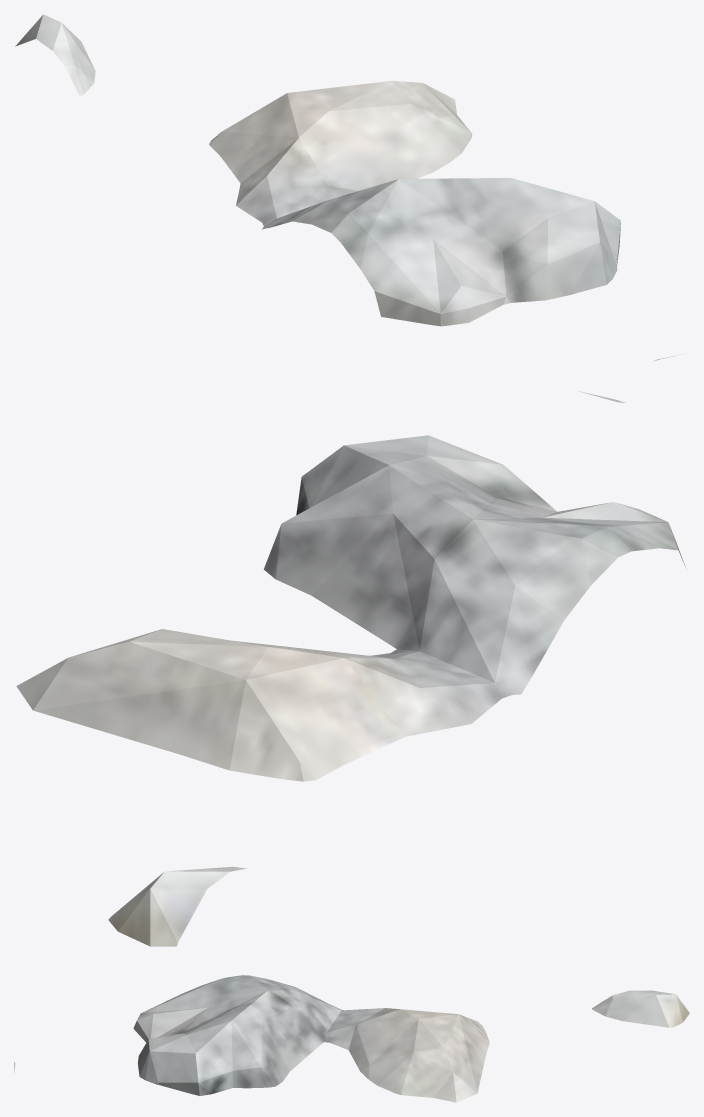
3 renders of one model, top to bottom at view 1: azimuth 30°, elevation 25°; view 2: azimuth 150°, elevation 25°; view 3: azimuth 270°, elevation 25°, orthographic. The views are drawn at different scales.
Size of the model in its own units: 0.6106 by 0.1406 by 1.85.
Materials: 1 (1 with a texture image).
